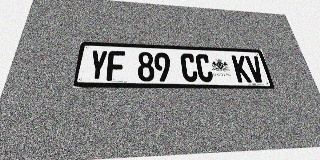8: (138, 52, 155, 81)
9: (154, 52, 171, 82)
C: (195, 54, 214, 82), (180, 53, 198, 82)
F: (106, 51, 125, 81)
K: (231, 55, 252, 82)
V: (245, 56, 266, 83)
Y: (87, 50, 108, 81)
